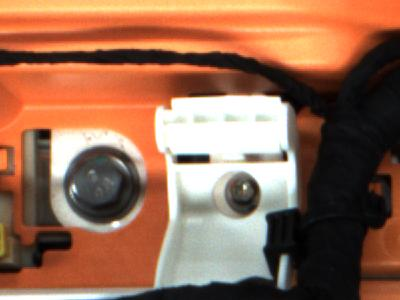nut_b: (59, 144, 148, 229)
